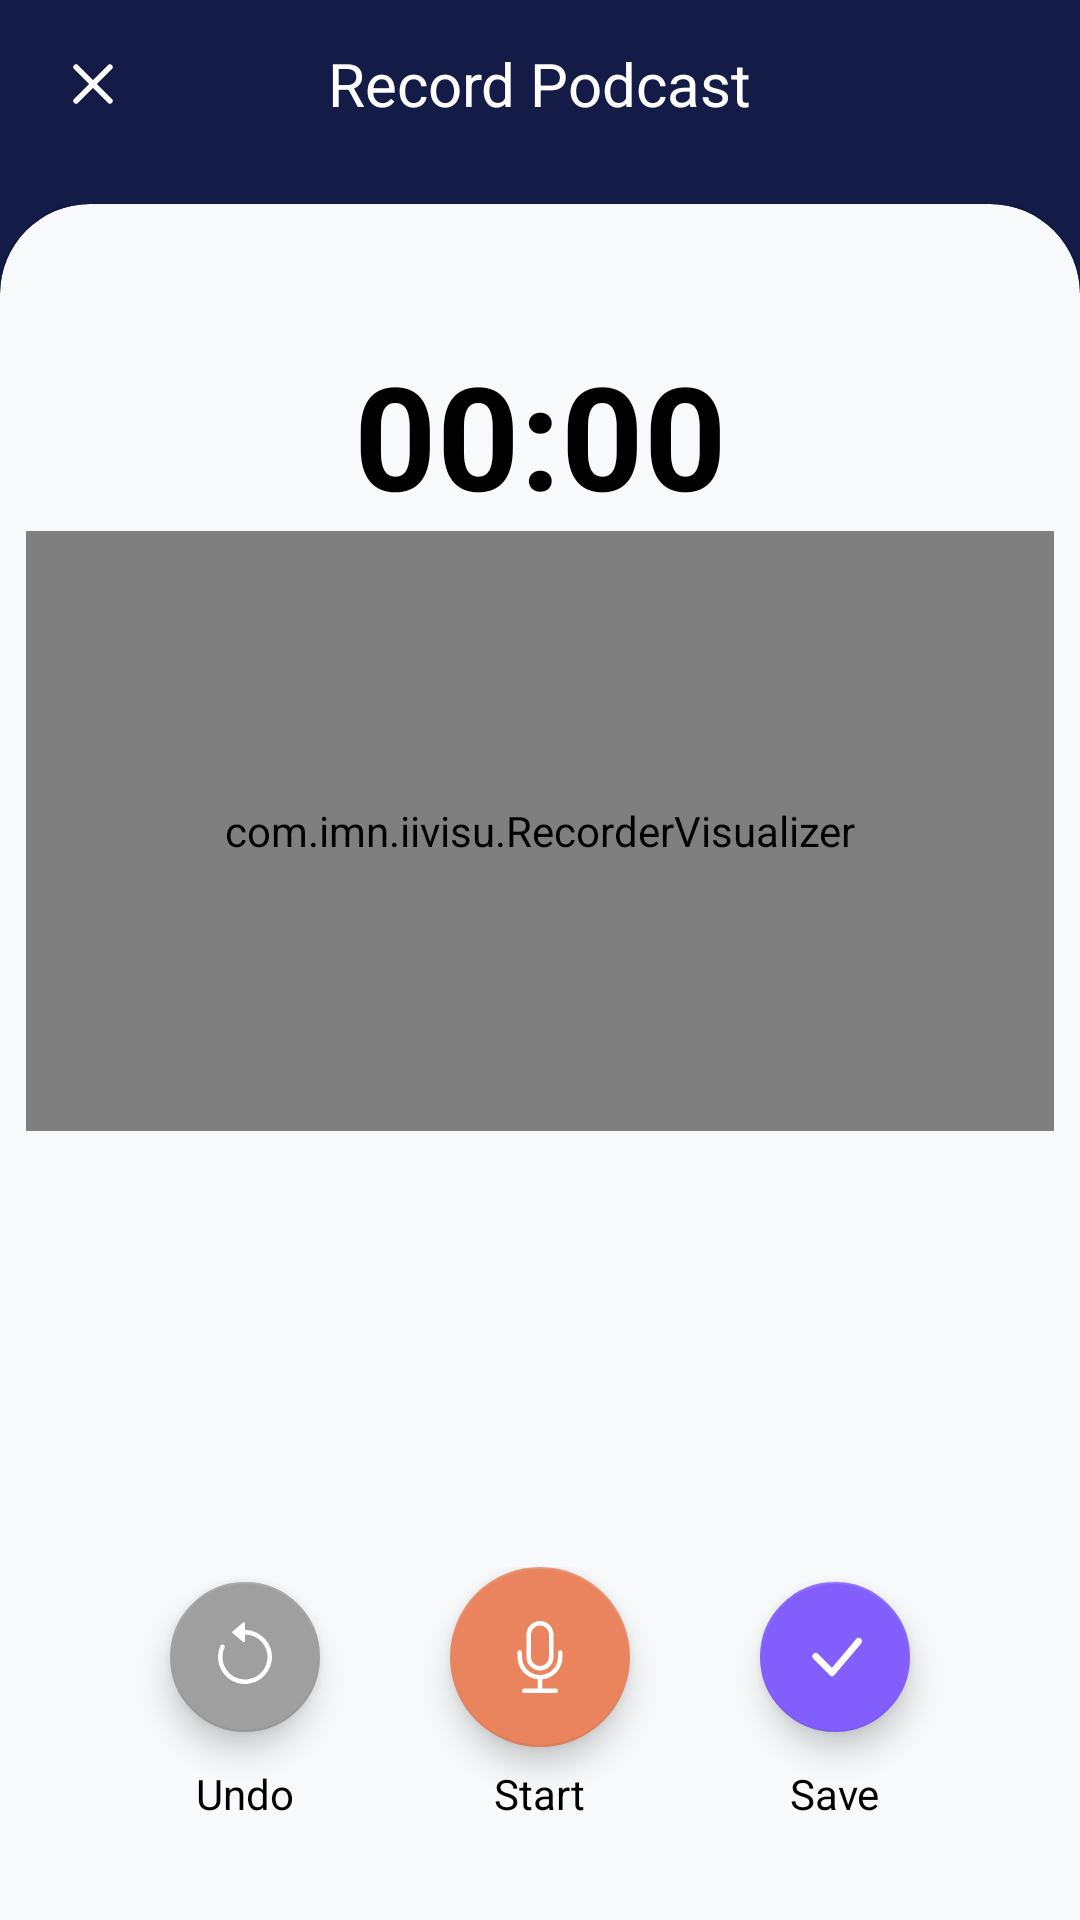

Where to tap for icons on this 1080px×1920px app screen, as point (x, y):
close: point (93, 84)
